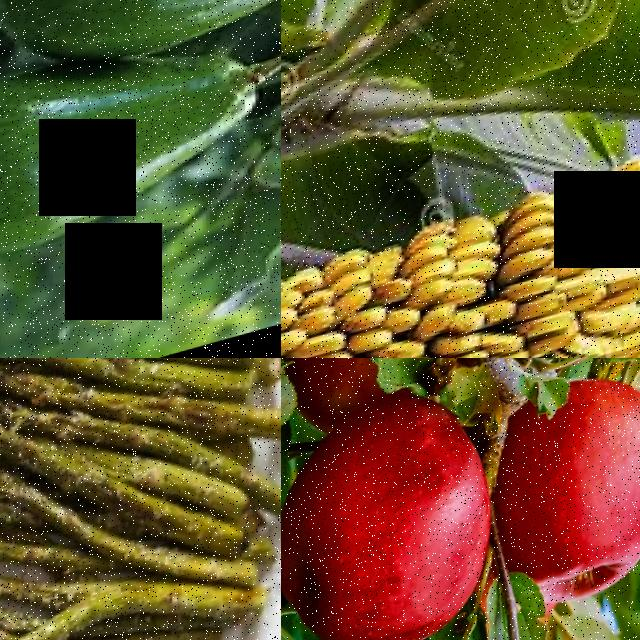apple: (281, 380, 524, 640), (479, 358, 640, 640), (281, 358, 516, 455)
avocado: (0, 14, 281, 302), (0, 0, 281, 107)
banana: (497, 125, 640, 358), (401, 181, 528, 321), (335, 225, 430, 358), (281, 251, 386, 358), (425, 278, 551, 358)
